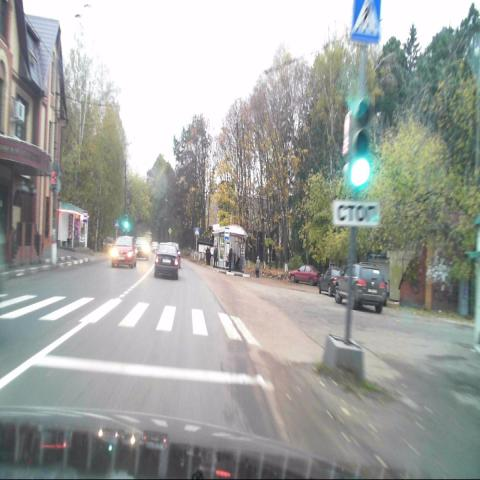6_16: (332, 200, 380, 226)
